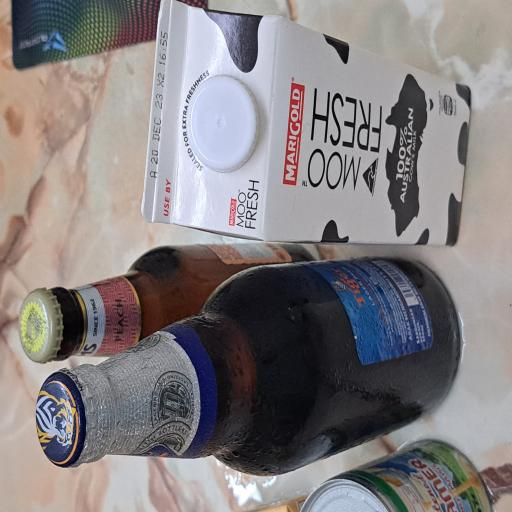can: (0, 394, 58, 512)
drink carton: (199, 185, 383, 512)
glass bottle: (26, 45, 191, 512), (113, 24, 204, 424)
plastic bottle cap: (253, 250, 330, 346)
